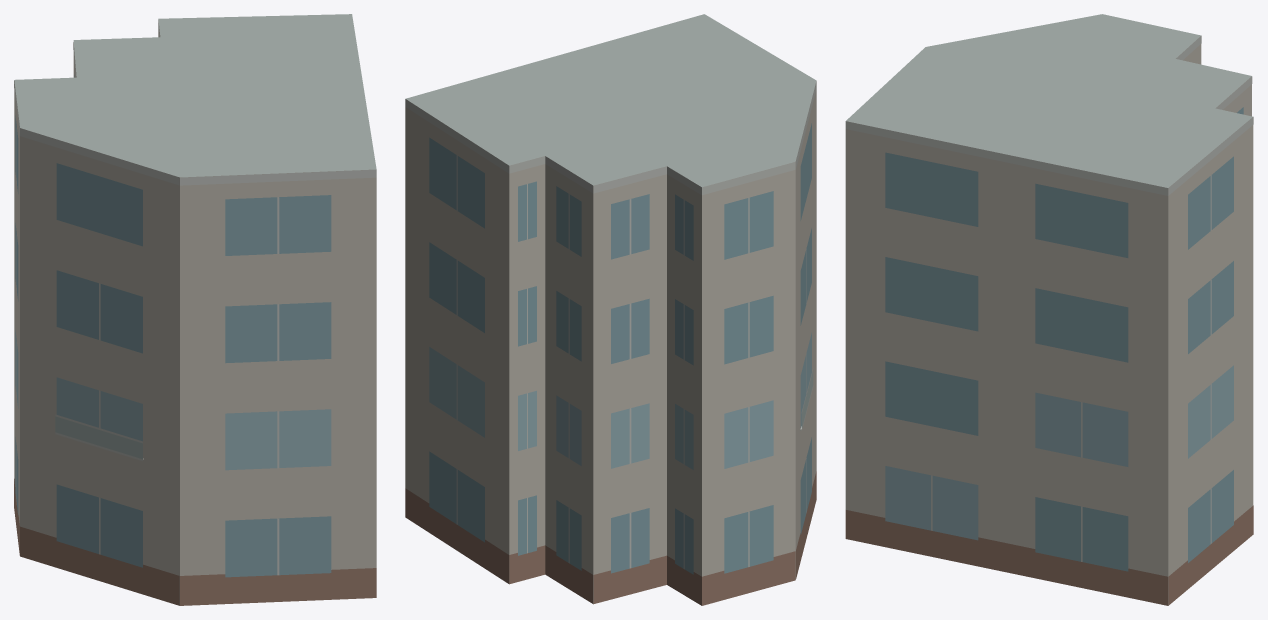
The model's file is survey-upis-32487089.glb.
The picture shows the model from 3 angles, left to right: view 1: azimuth 30°, elevation 25°; view 2: azimuth 150°, elevation 25°; view 3: azimuth 270°, elevation 25°; orthographic projection. The views are drawn at different scales.
Visible parts, largest first — view 1: survey-upis-32487089.tmp; view 2: survey-upis-32487089.tmp; view 3: survey-upis-32487089.tmp.
Part boxes in pixels (<box>): survey-upis-32487089.tmp: <box>14,14,376,605</box>; survey-upis-32487089.tmp: <box>405,14,816,605</box>; survey-upis-32487089.tmp: <box>845,14,1253,605</box>.
Size of the model in its own units: 11.45 by 12.8 by 11.33.
